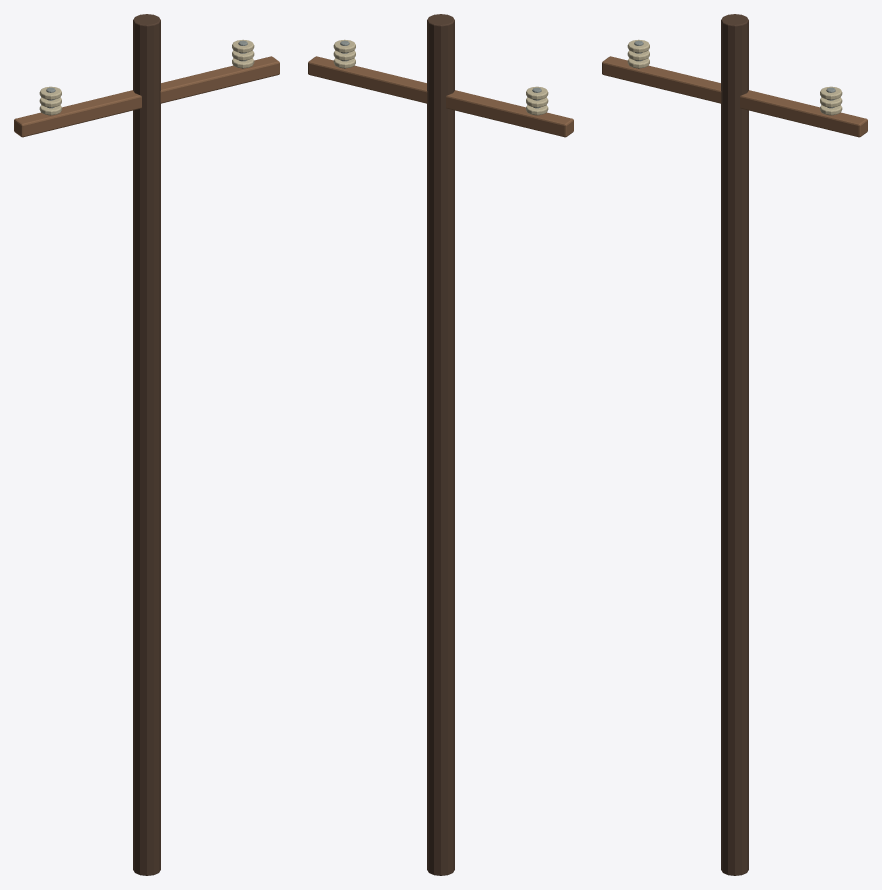
The model's file is env_power_pole.gltf.
The picture shows the model from 3 angles, left to right: view 1: azimuth 30°, elevation 25°; view 2: azimuth 150°, elevation 25°; view 3: azimuth 330°, elevation 25°; orthographic projection.
Visible parts, largest first — view 1: env_power_pole__wood_edge, env_power_pole__wood, env_power_pole__paint_cream; view 2: env_power_pole__wood_edge, env_power_pole__wood, env_power_pole__paint_cream; view 3: env_power_pole__wood_edge, env_power_pole__wood, env_power_pole__paint_cream.
Part boxes in pixels (x1,y1,x2,y2): env_power_pole__wood_edge: (133,14,160,875); env_power_pole__wood: (14,56,279,137); env_power_pole__paint_cream: (39,39,254,115); env_power_pole__wood_edge: (427,14,454,875); env_power_pole__wood: (308,56,573,137); env_power_pole__paint_cream: (333,39,548,115); env_power_pole__wood_edge: (721,14,748,875); env_power_pole__wood: (602,56,867,137); env_power_pole__paint_cream: (627,39,842,115).
Size of the model in its own units: 7 by 22 by 0.66.
